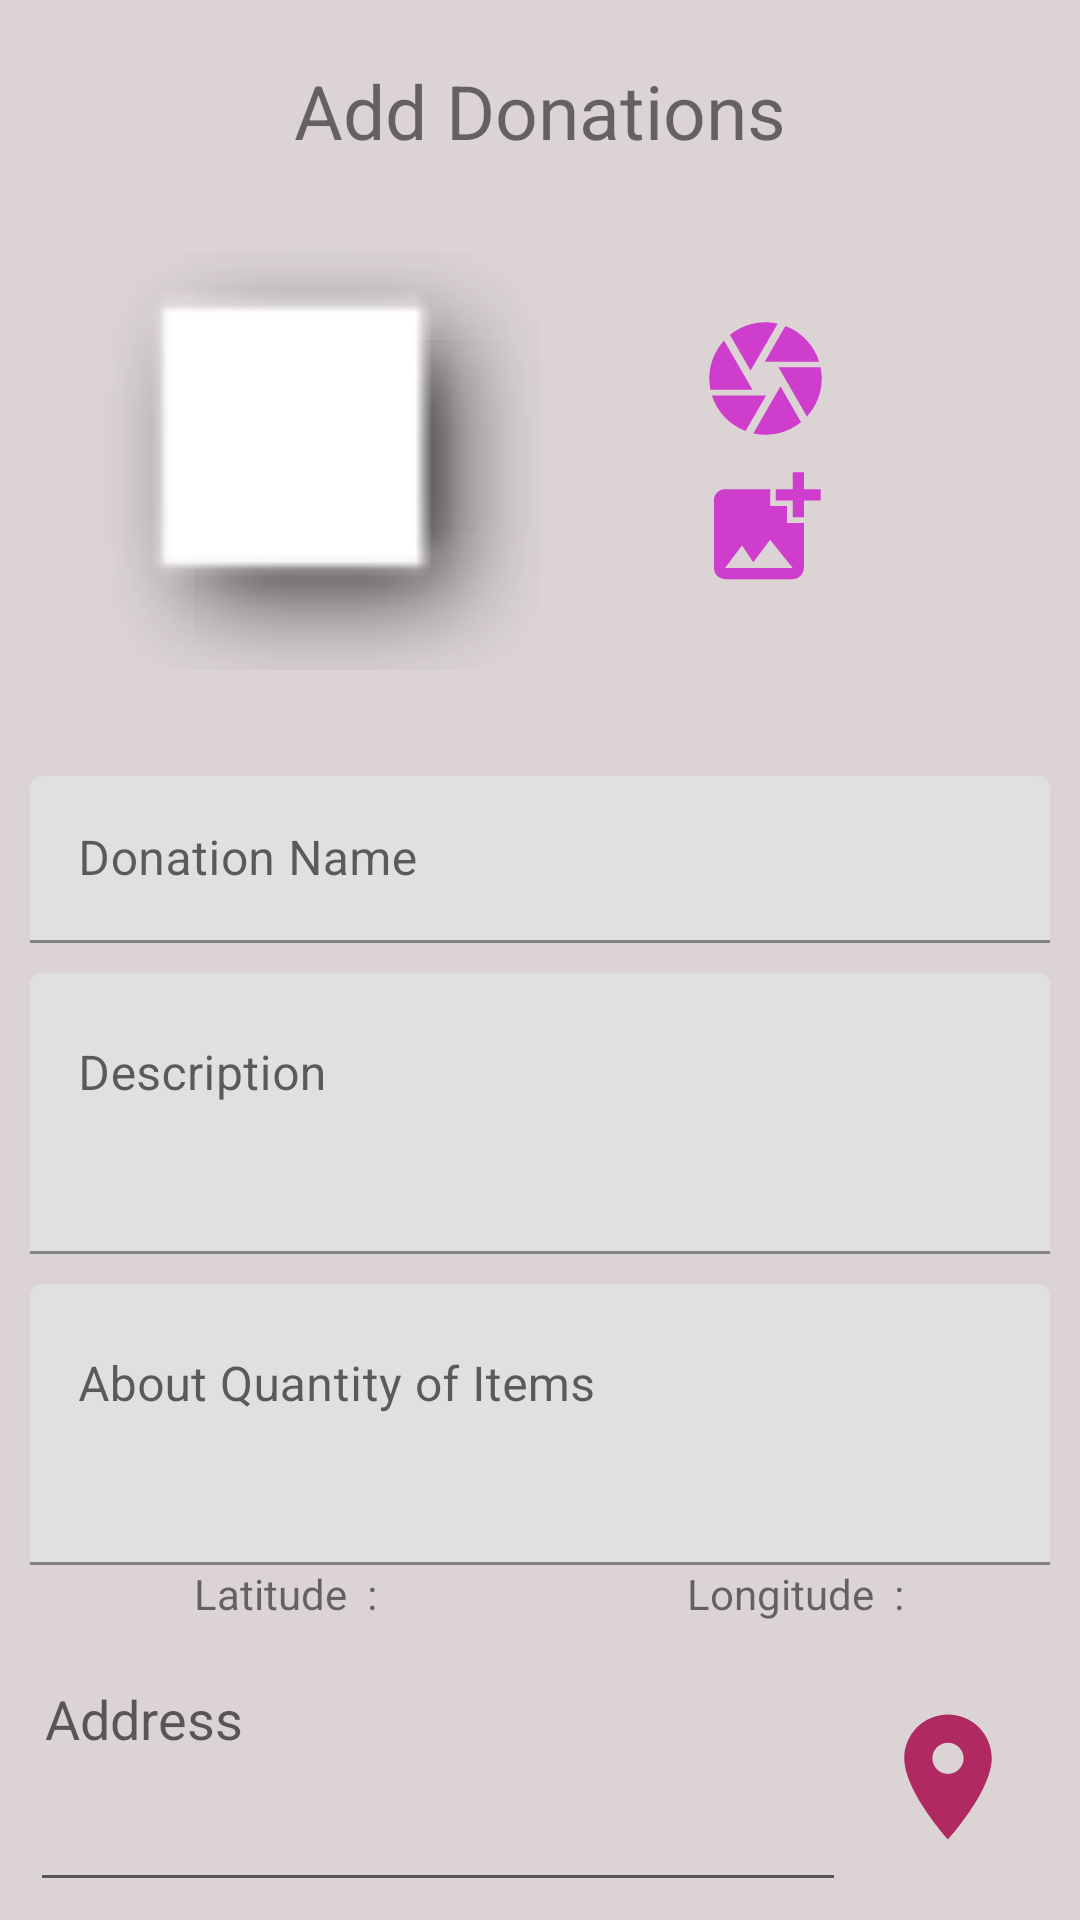

Named icons in this screenshot (1080 x 1920) and their bounding boxes, (x1, y1, x2, y2):
add photo alternate: (714, 472, 821, 580)
camera: (709, 322, 822, 435)
location on: (904, 1714, 992, 1840)
